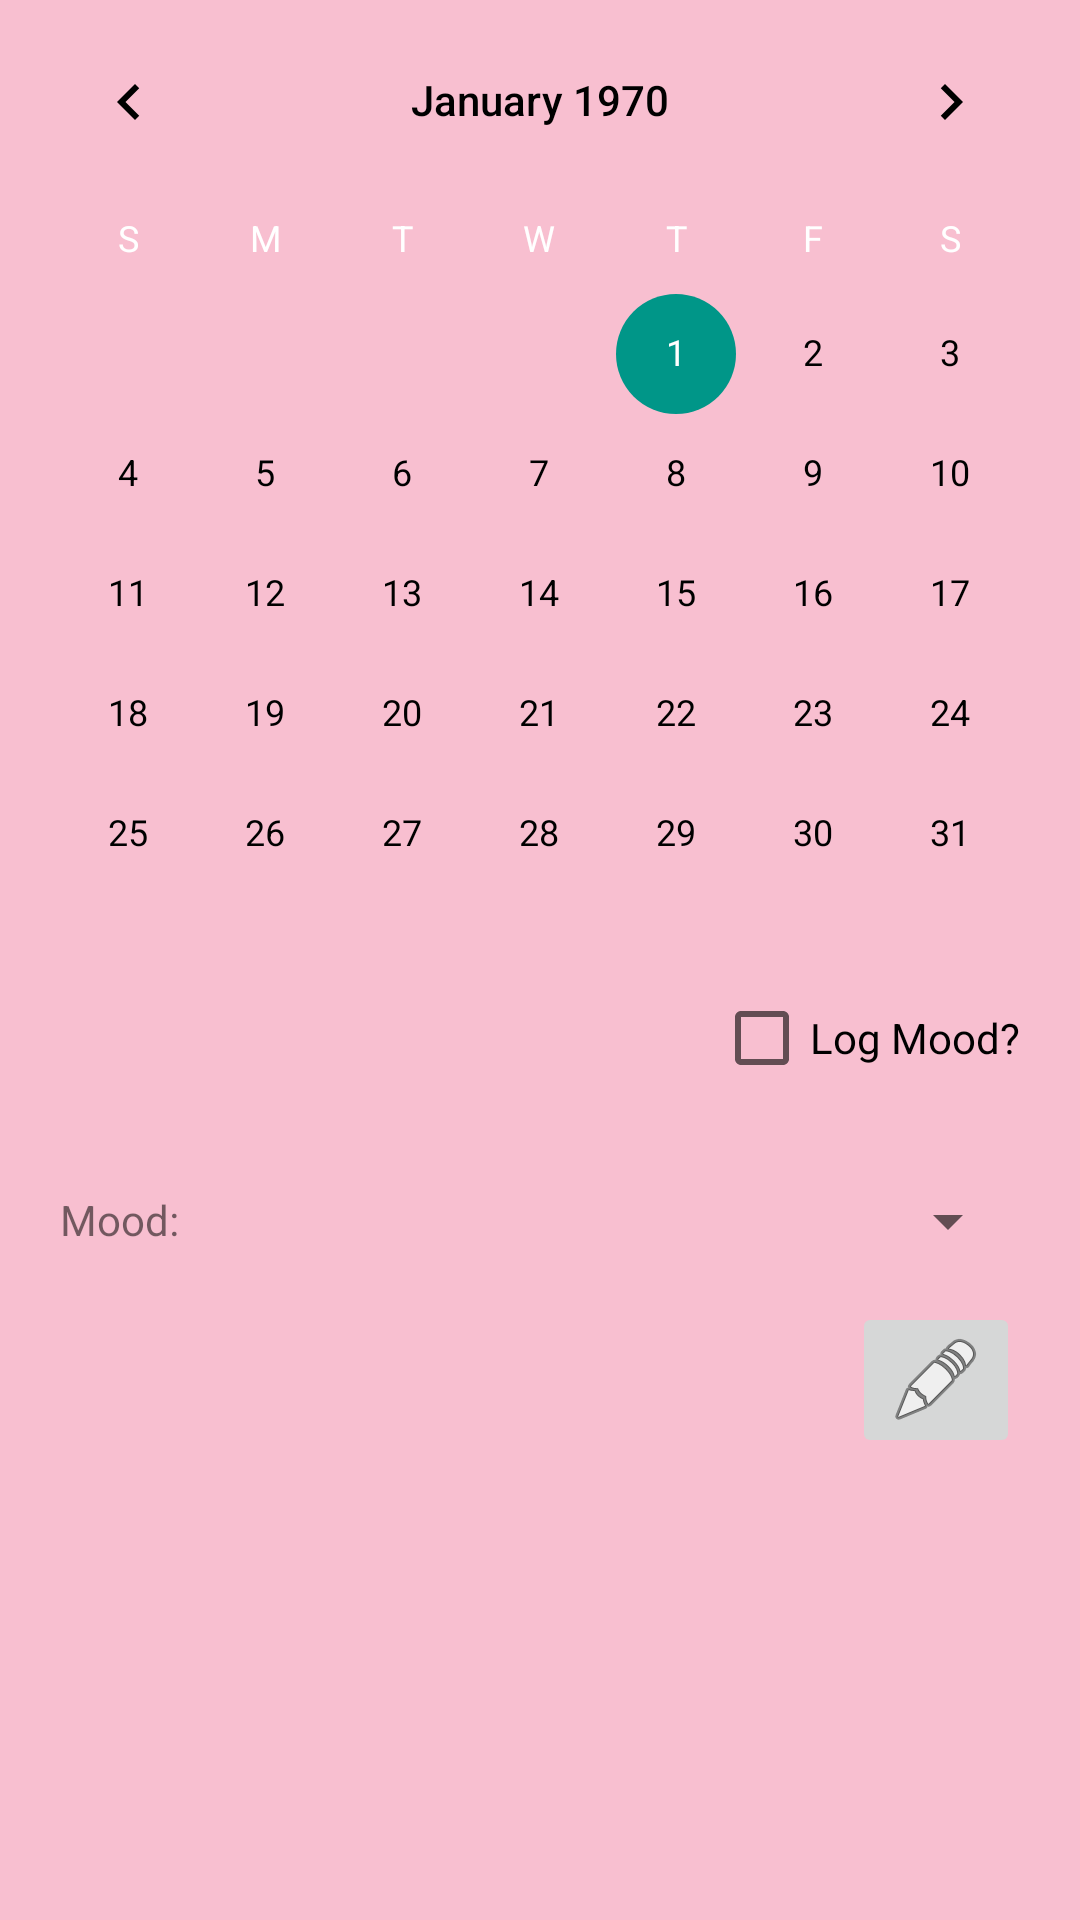

Named icons in this screenshot (1080px x 1920px) and their bounding boxes, (x1, y1, x2, y2):
Save and Edit Button: (864, 1320, 1008, 1440)
